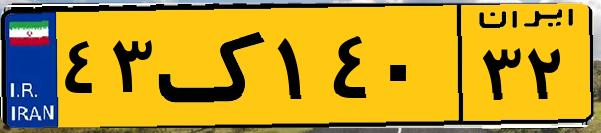0: (385, 28, 445, 110)
1: (270, 28, 330, 110)
2: (525, 38, 570, 115)
3: (475, 38, 525, 113), (110, 28, 158, 98)
4: (330, 28, 385, 110), (57, 26, 110, 100)
ک: (158, 12, 270, 120)
